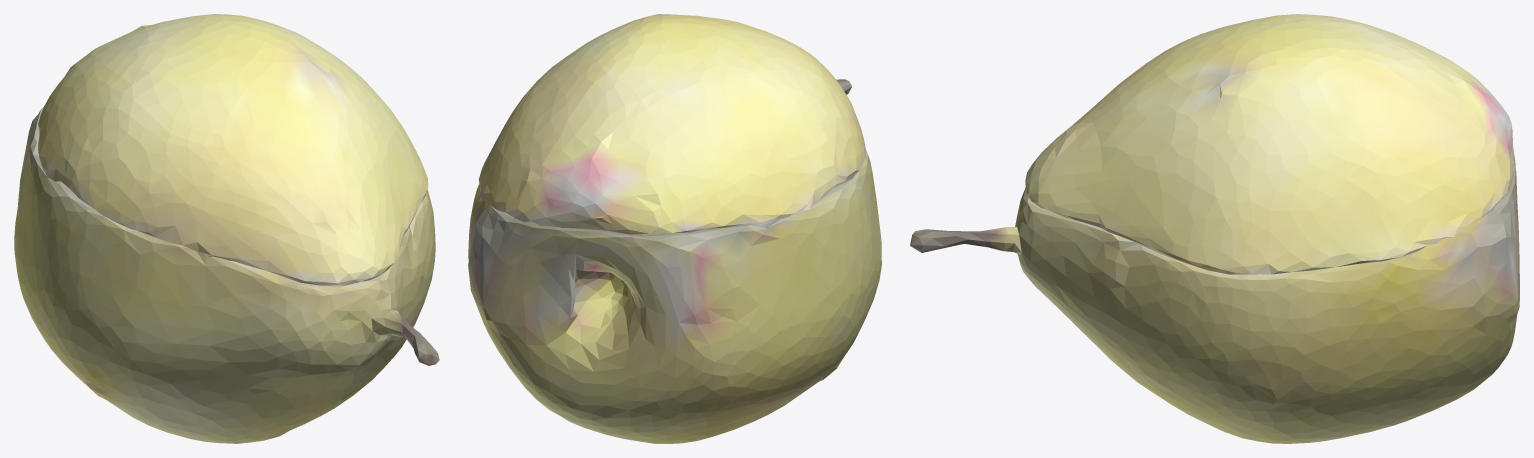
The picture shows the model from 3 angles, left to right: view 1: azimuth 30°, elevation 25°; view 2: azimuth 150°, elevation 25°; view 3: azimuth 270°, elevation 25°; orthographic projection. The views are drawn at different scales.
Visible parts, largest first — view 1: world; view 2: world; view 3: world.
Boxes of the visible parts, bbox=[...] form: world: bbox=[14, 14, 439, 443]; world: bbox=[468, 14, 881, 443]; world: bbox=[910, 14, 1519, 443].
Size of the model in its own units: 0.0761 by 0.0782 by 0.1096.
